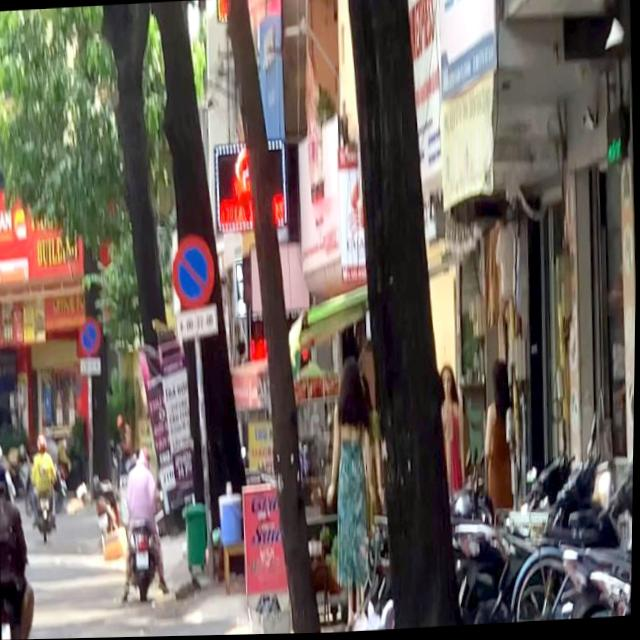Cam do xe: (172, 232, 213, 310), (80, 317, 102, 355)
